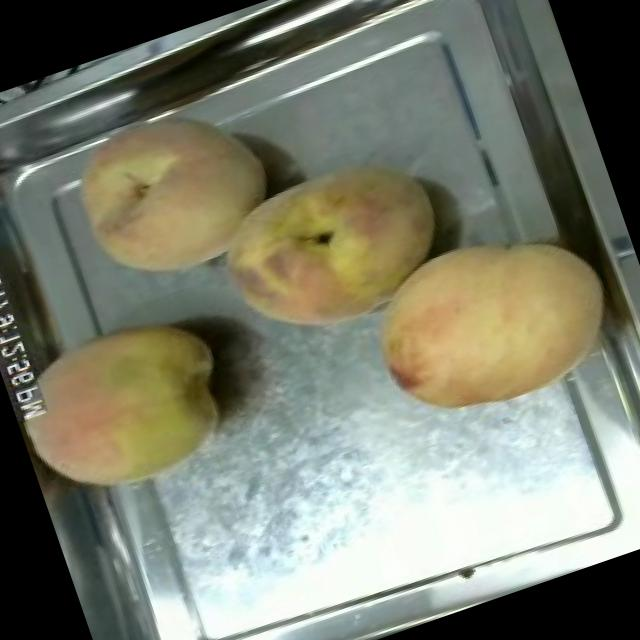Fruit: (344, 194, 640, 449), (196, 130, 468, 368), (0, 287, 256, 523), (45, 77, 296, 310)
